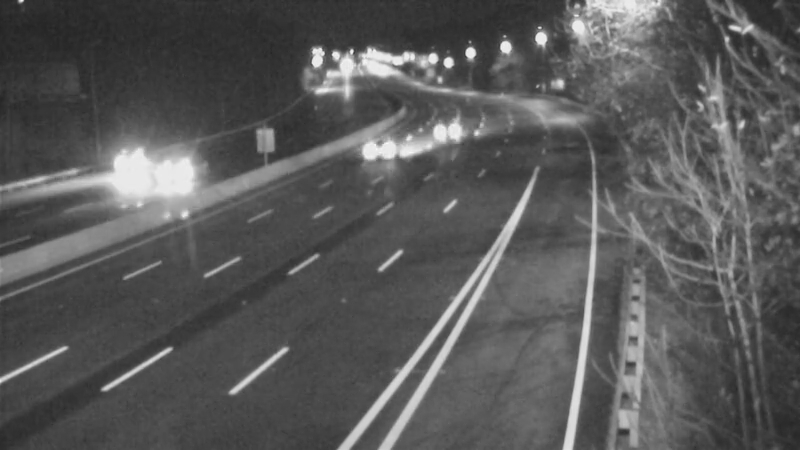vehicle: (331, 112, 411, 192), (89, 133, 169, 213), (128, 140, 208, 220), (432, 104, 482, 154)
